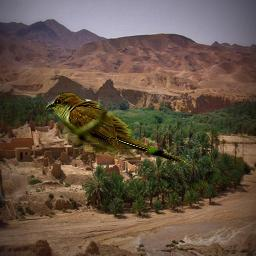Cuckoo: (45, 91, 188, 165)
